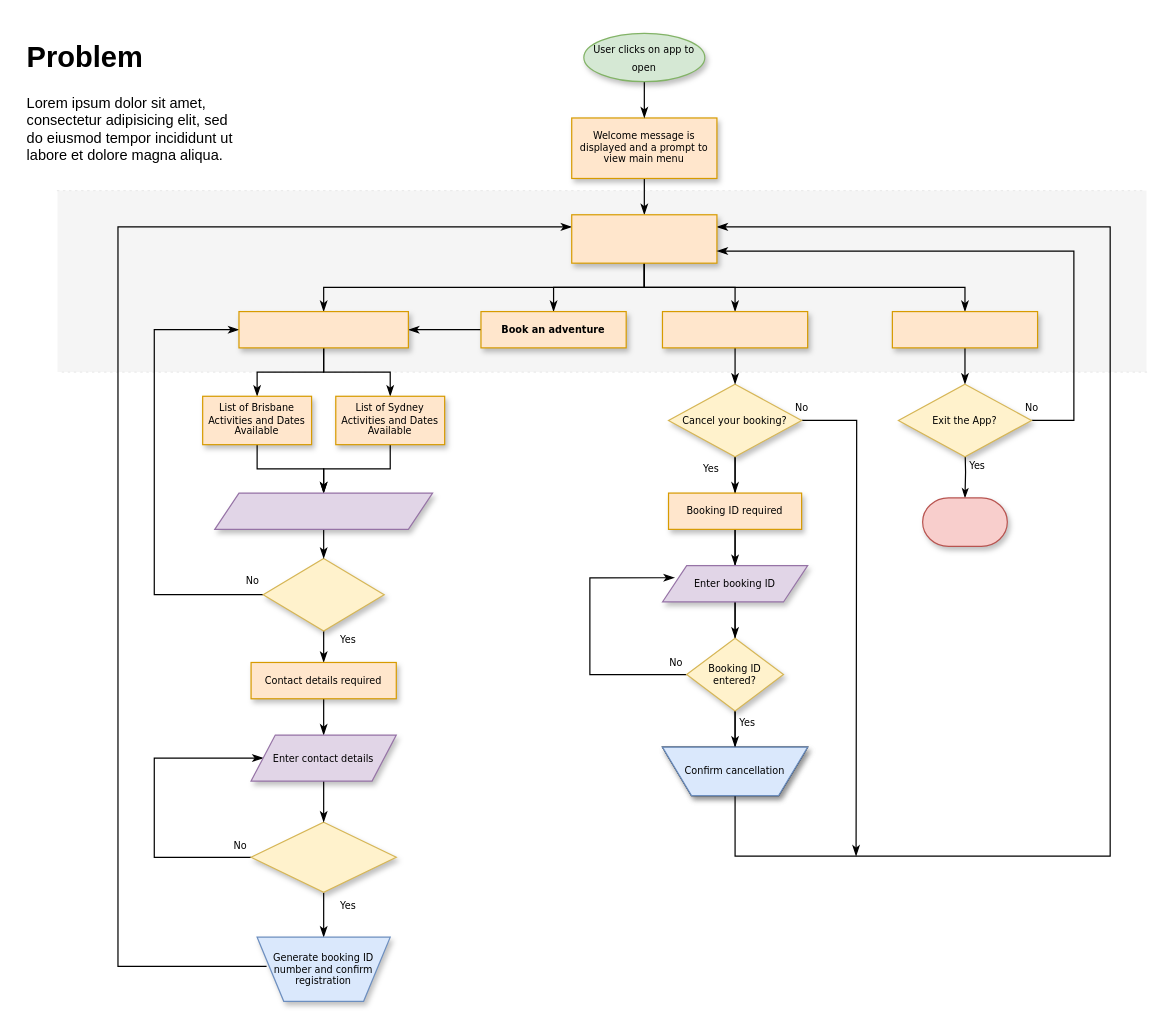
Image size: 1168x1031. Some labels were removed from this diagram. Here are the shapes that lost their labels. From the top down, the centre of each, then its label:
At point 645,240: "Main menu".
At point 324,331: "View list of Adventure Activities".
At point 735,331: "Cancel your booking".
At point 965,331: "Exit the App".
At point 324,512: "Select location, activity and date".
At point 966,523: "User is taken out of App".
At point 324,595: "Book adventure?".
At point 324,858: "Contact details entered?".
